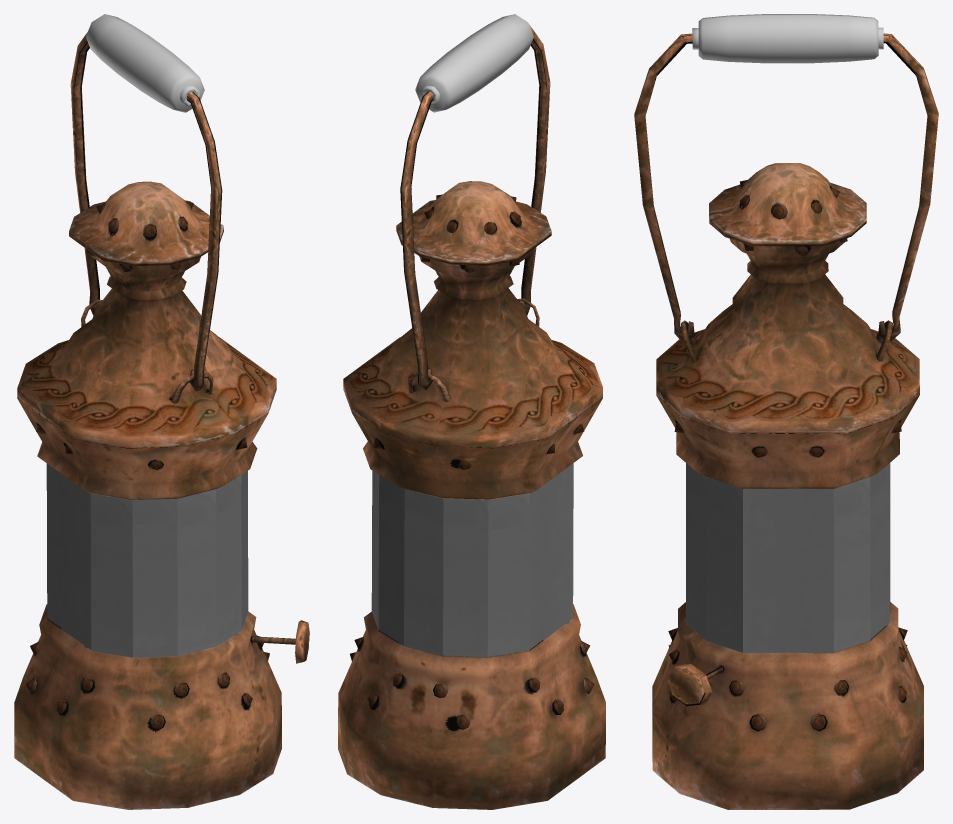
Rendered from lantern_inside_old.dae.
The picture shows the model from 3 angles, left to right: view 1: azimuth 30°, elevation 25°; view 2: azimuth 150°, elevation 25°; view 3: azimuth 270°, elevation 25°; orthographic projection. The views are drawn at different scales.
Visible parts, largest first — view 1: lantern, glass, handle_wood; view 2: lantern, glass, handle_wood; view 3: lantern, glass, handle_wood.
Part boxes in pixels (x1,y1,x2,y2): lantern: [14, 32, 309, 809]; glass: [46, 463, 248, 657]; handle_wood: [86, 14, 204, 112]; lantern: [338, 23, 605, 809]; glass: [371, 463, 573, 657]; handle_wood: [415, 14, 533, 112]; lantern: [634, 33, 938, 809]; glass: [686, 463, 890, 652]; handle_wood: [692, 14, 883, 63].
Bounding box in the file's own units: 0.0633 × 0.1885 × 0.0702.
